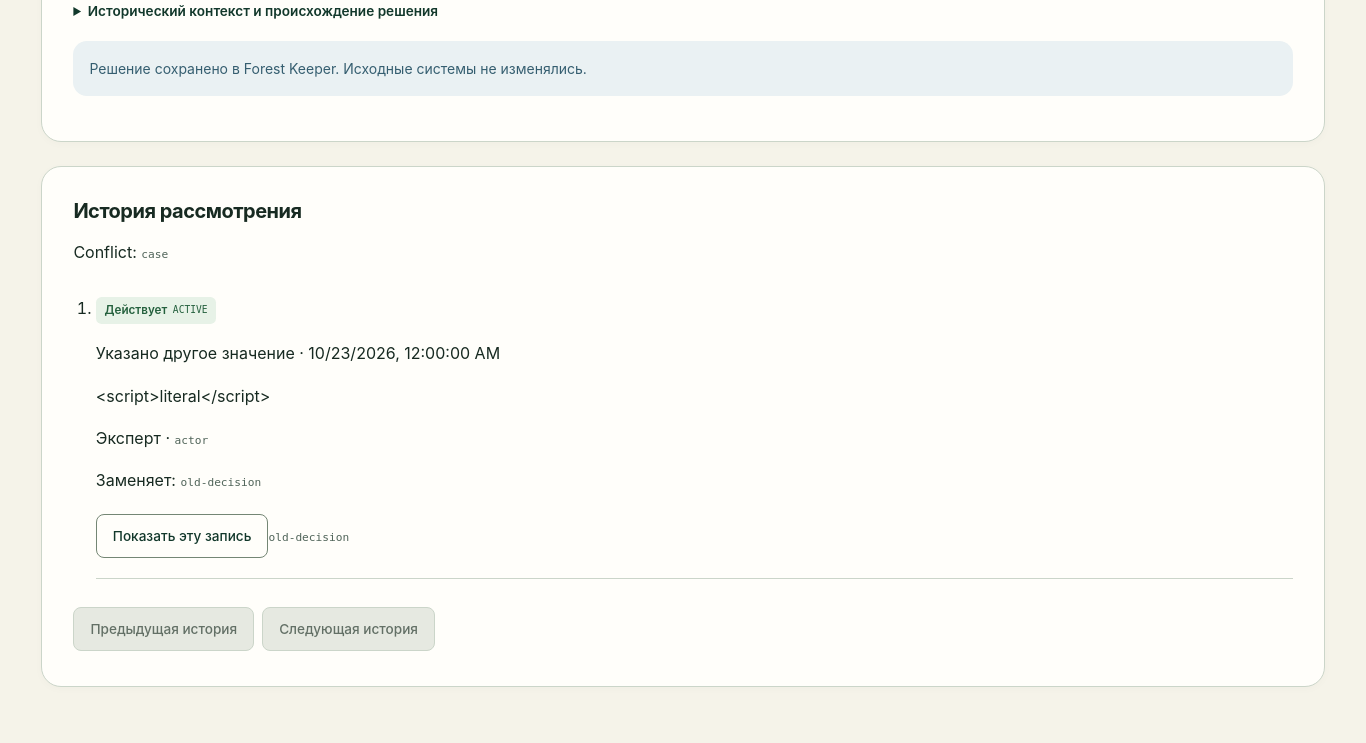
drops the old card when reading a different historical decision is denied
This screenshot has width=1366, height=743.
(page scrolled)
Click the button with aria-label "Показать эту запись: историческое решение old-decision": (182, 536) [96,514,268,558]
(page scrolled)
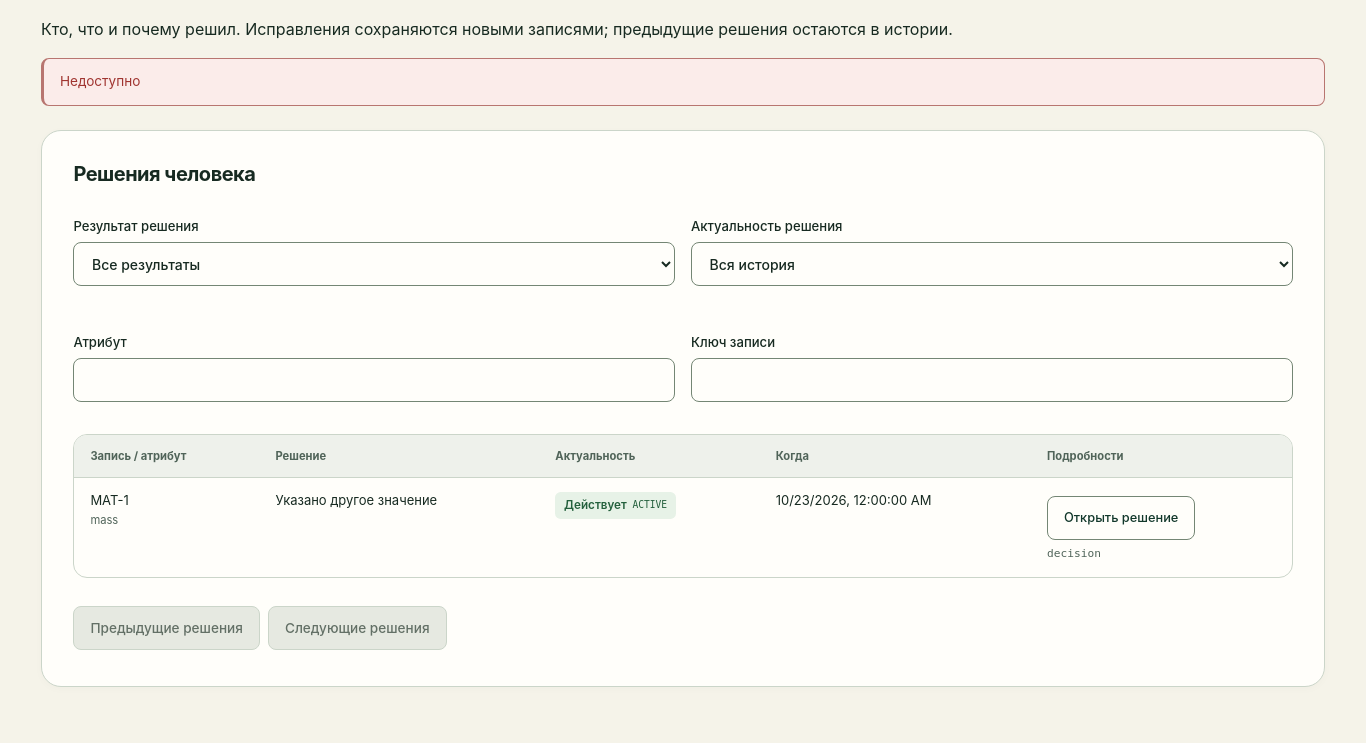
Expected: the message "Недоступно" is shown, [41,58,1325,106]
